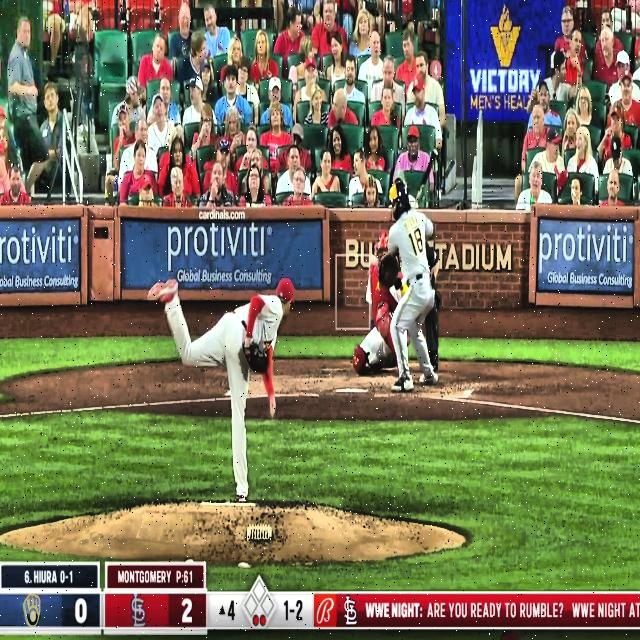baseball: (369, 252, 380, 266)
